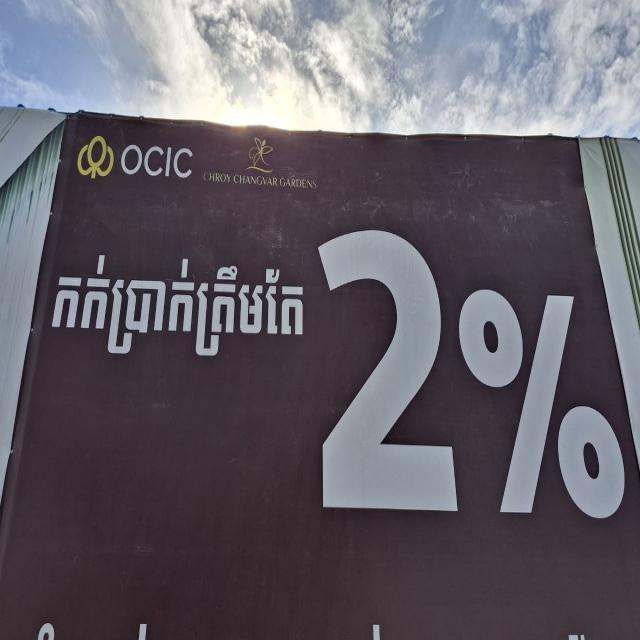Yolov11kh: (42, 233, 326, 378)
